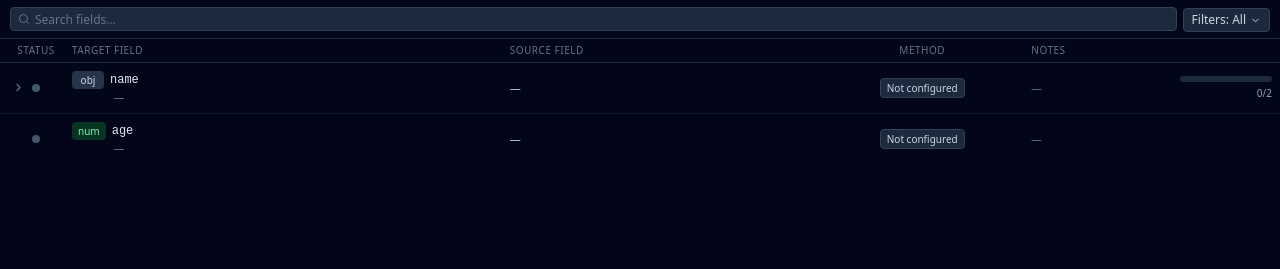
Test: TargetWorklist › shows children after expanding an object node
Click the button with test id "expand-toggle-name" at (18, 88), box [10,80,27,96]
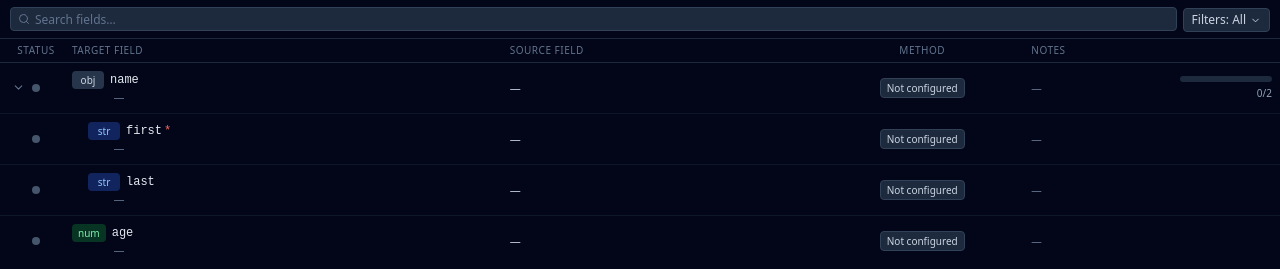
Now the row with test id "target-field-row-name.first" is shown, box [0,114,1279,165]
Now the row with test id "target-field-row-name.last" is shown, box [0,165,1279,216]
